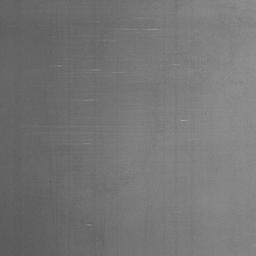Waist folding: (55, 63, 123, 75), (161, 62, 205, 70), (124, 27, 160, 32), (73, 97, 95, 103), (59, 142, 90, 146), (240, 80, 256, 84)
